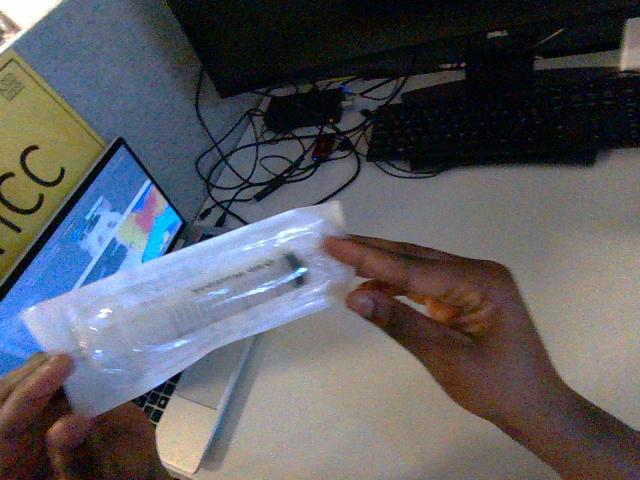syringe: (22, 202, 352, 415)
